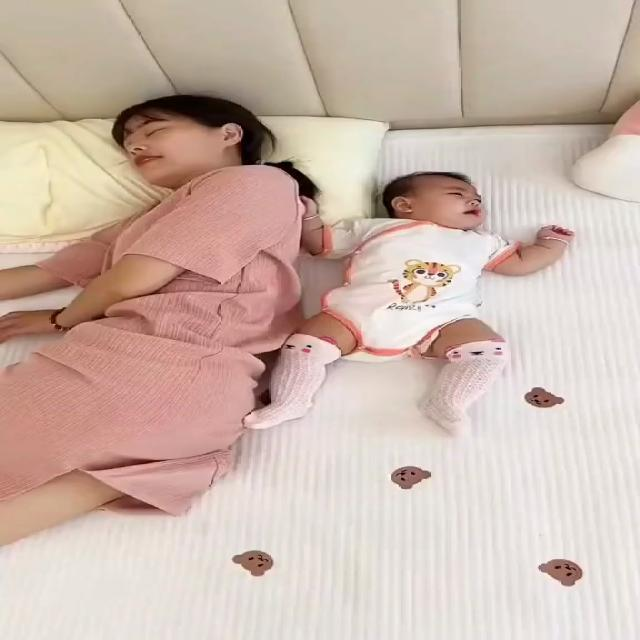baby: (248, 158, 582, 448)
